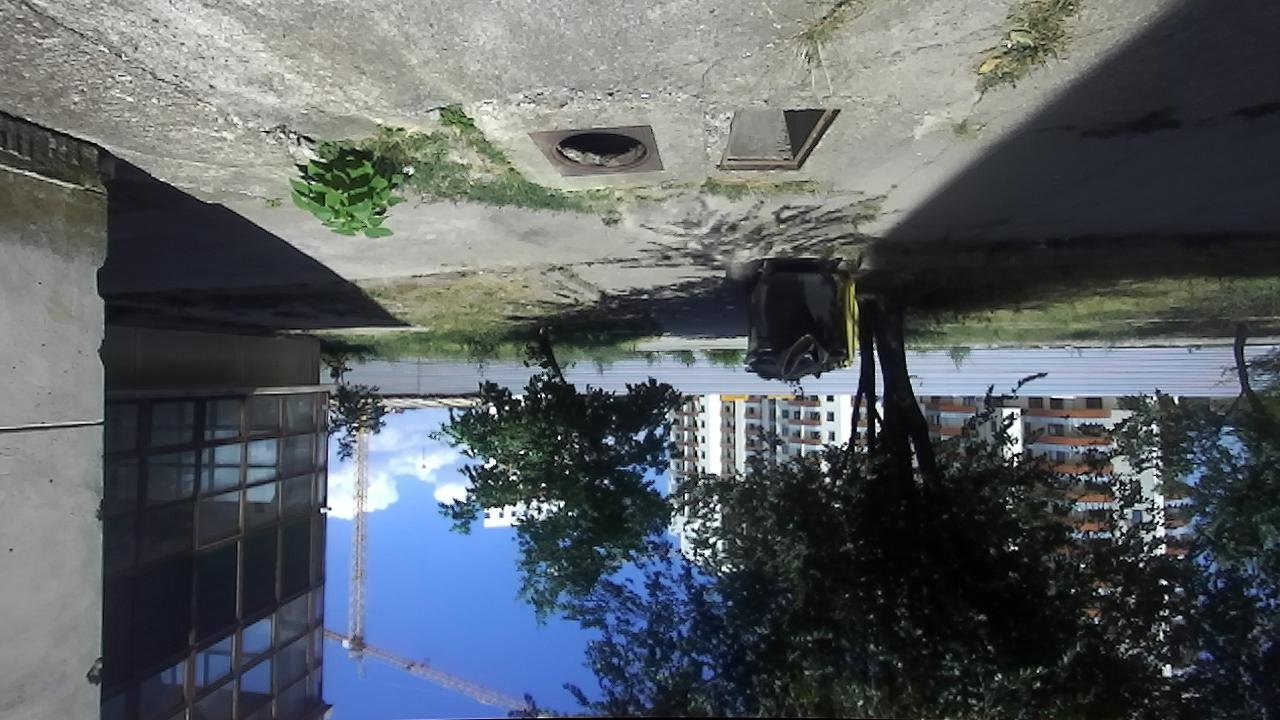drain: (715, 103, 843, 174), (547, 130, 651, 176)
